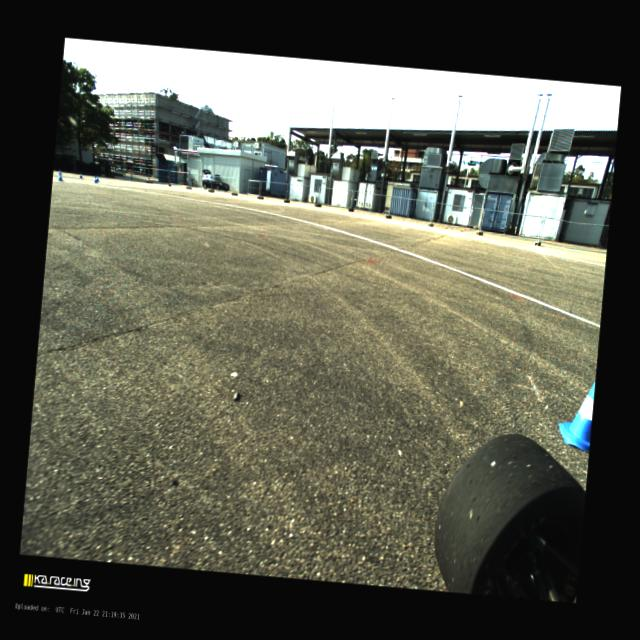blue_cone: (556, 376, 595, 452), (58, 170, 64, 181), (93, 176, 98, 182), (96, 175, 100, 181), (79, 172, 82, 178)
